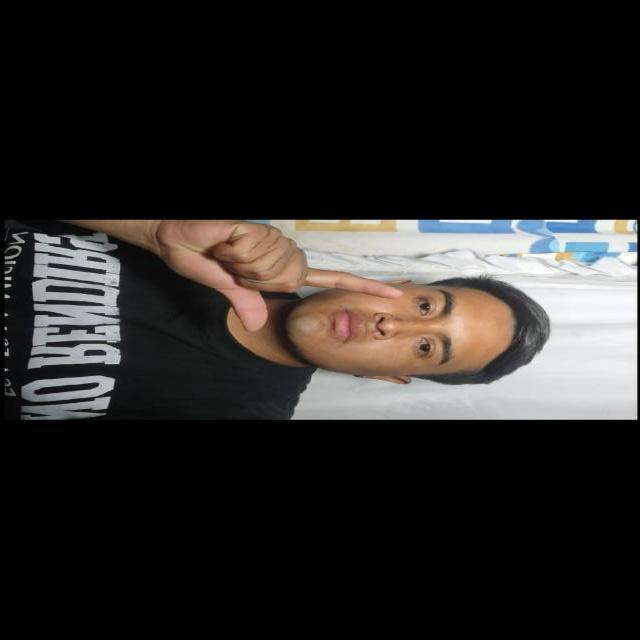L: (140, 220, 412, 329)
